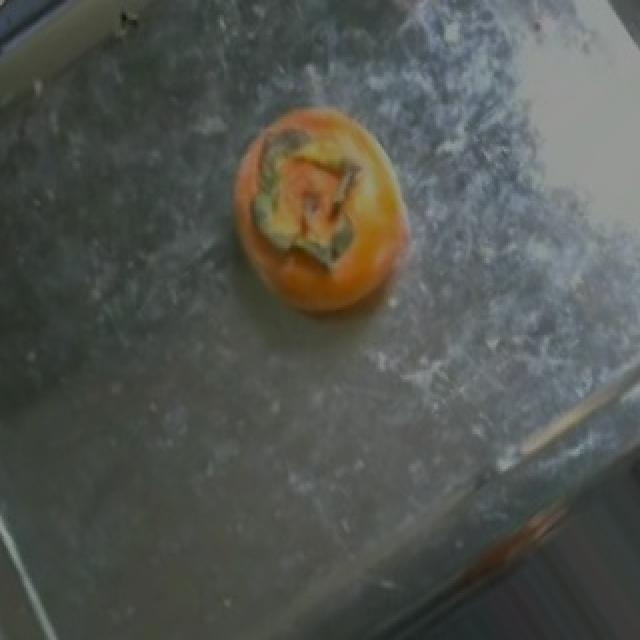Fruit: (208, 87, 440, 340), (0, 0, 116, 69)
